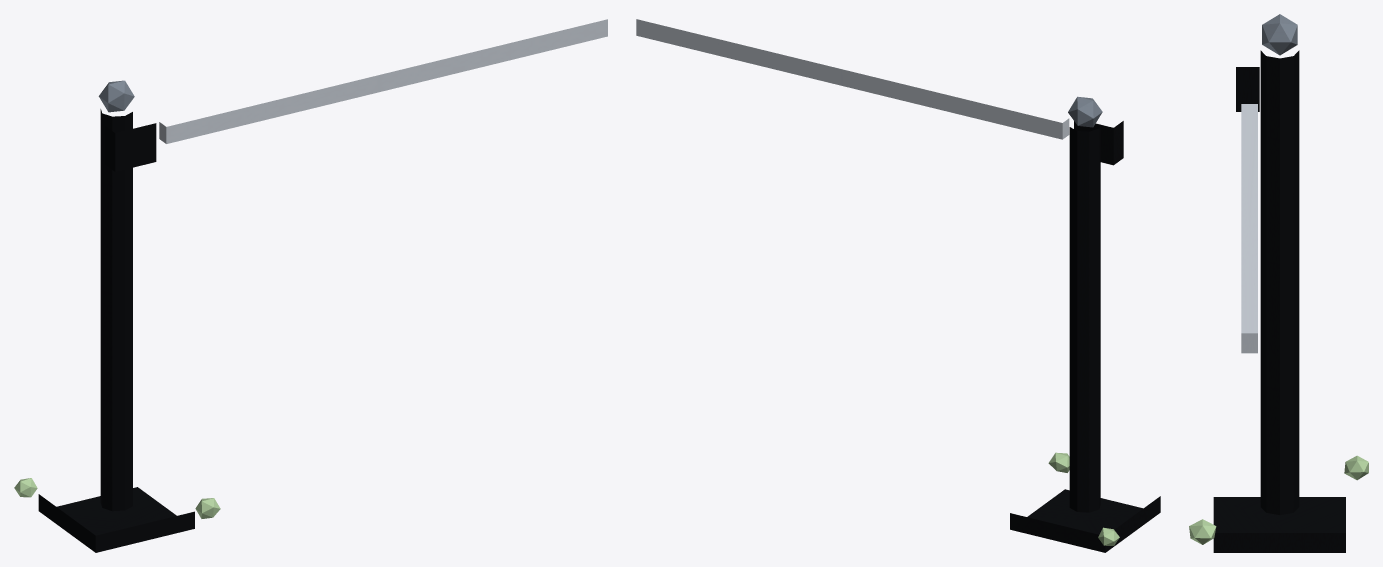
The model's file is v5_green_stanchion.glb.
3 renders of one model, left to right at view 1: azimuth 30°, elevation 25°; view 2: azimuth 150°, elevation 25°; view 3: azimuth 270°, elevation 25°, orthographic. The views are drawn at different scales.
Visible parts, largest first — view 1: Post, Belt, Post_Cap, Moss_Base; view 2: Post, Belt, Post_Cap, Moss_Base; view 3: Post, Belt, Post_Cap, Moss_Base.
Boxes of the visible parts, x1,y1,x2,y2 form: Post: (38,109,194,552); Belt: (159,19,607,143); Post_Cap: (98,80,134,112); Moss_Base: (14,478,220,518); Post: (1010,121,1160,552); Belt: (636,19,1069,139); Post_Cap: (1068,96,1102,127); Moss_Base: (1048,452,1119,545); Post: (1213,50,1345,552); Belt: (1241,104,1257,353); Post_Cap: (1262,14,1297,55); Moss_Base: (1189,455,1368,544).
Size of what is drawn, in the model's own units: 1.31 by 1.01 by 0.3263.
4 materials, 3 textured.
